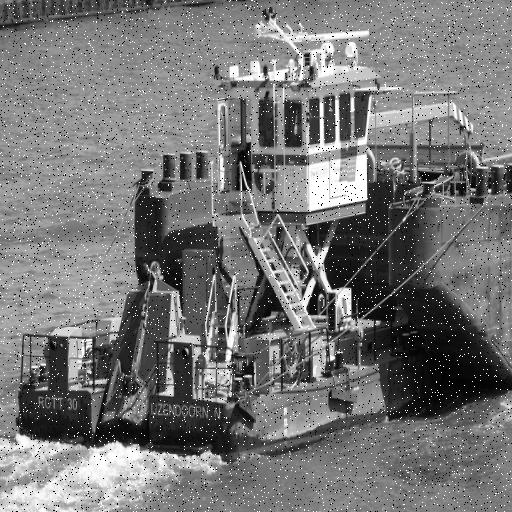tugboat: (13, 8, 431, 473)
